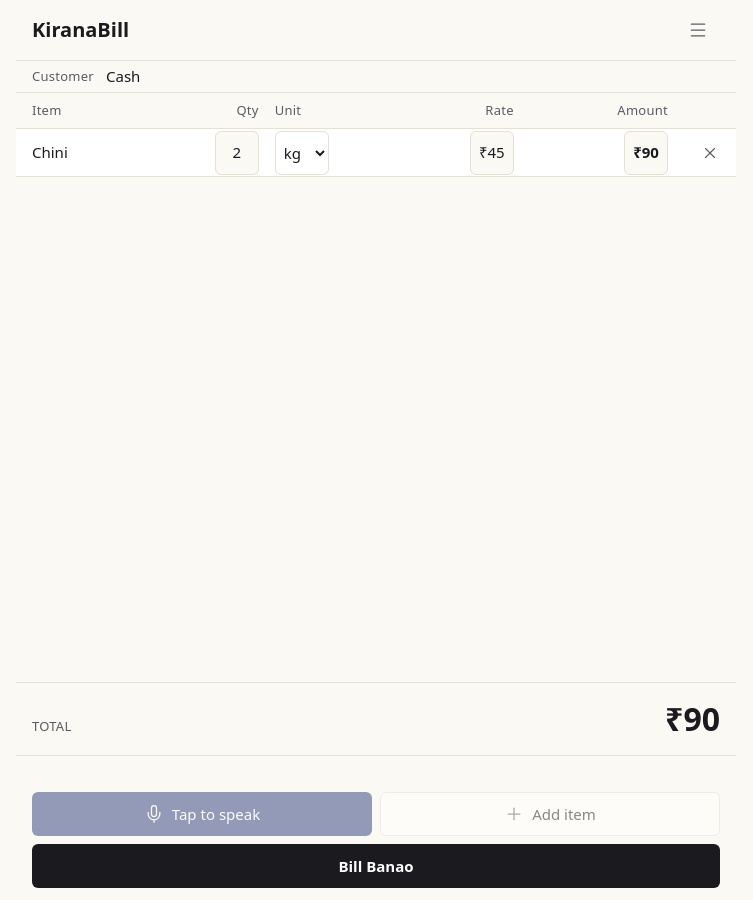
Test: the bill screen › menu, headings, total, customer - in en; Bill Banao never changes
The image size is (753, 900).
Step 1. Click the button named "Menu" → (698, 30), box top-left (676, 8), bottom-right (720, 52)
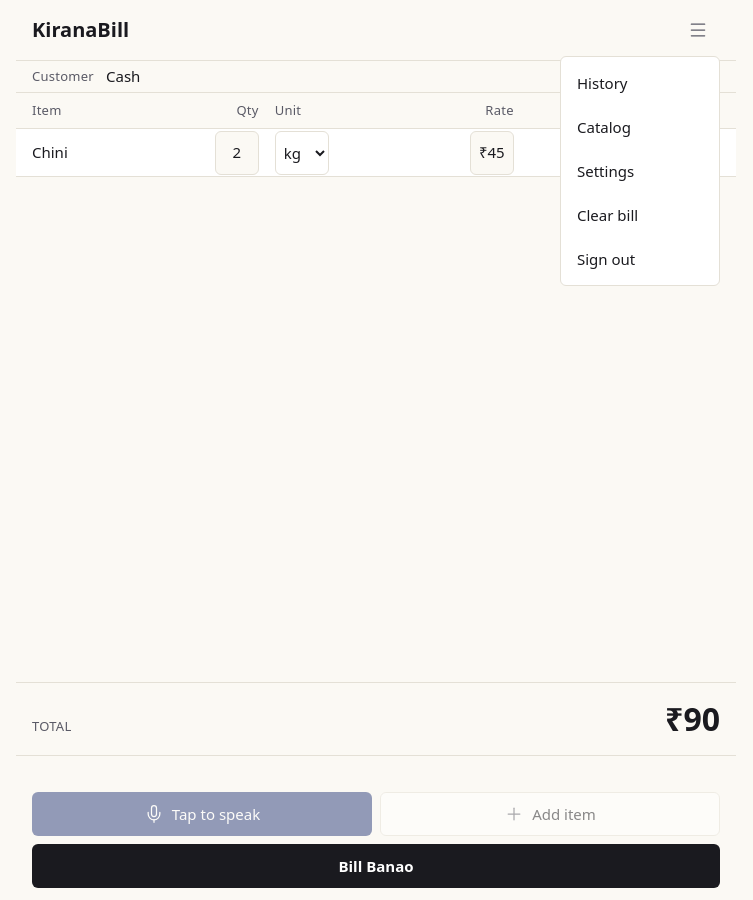
Expected: the button "History" is shown, top-left (561, 61), bottom-right (719, 105)
Expected: the button "Catalog" is shown, top-left (561, 105), bottom-right (719, 149)
Expected: the button "Settings" is shown, top-left (561, 149), bottom-right (719, 193)
